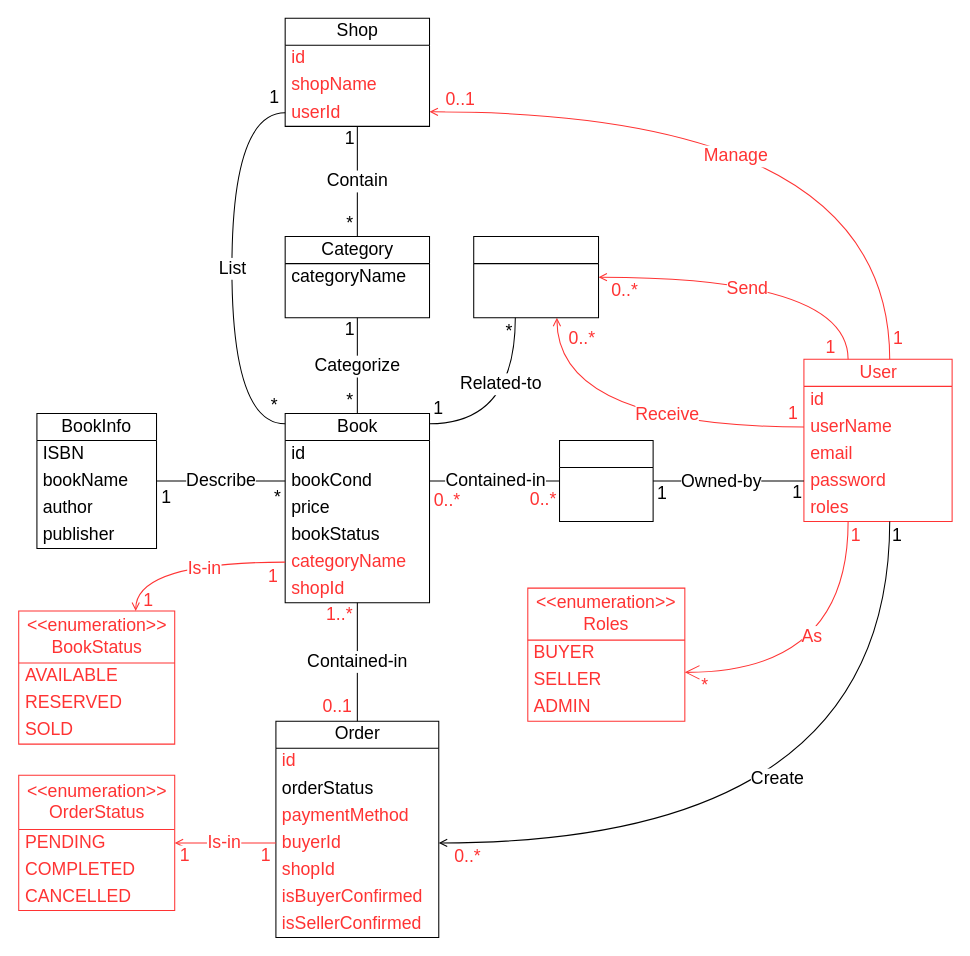
The diagram is 970 pixels wide and 956 high, and some of its shapes have lost their labels. The centre of each missing label's shape, as x and y in pixels:
Cart: [605,480]
Message: [536,277]
